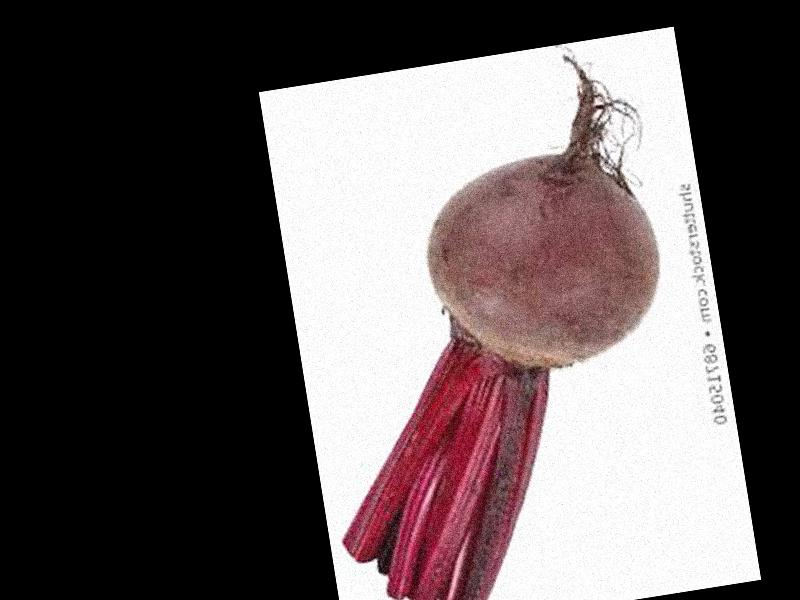Beet: (276, 45, 708, 600)
